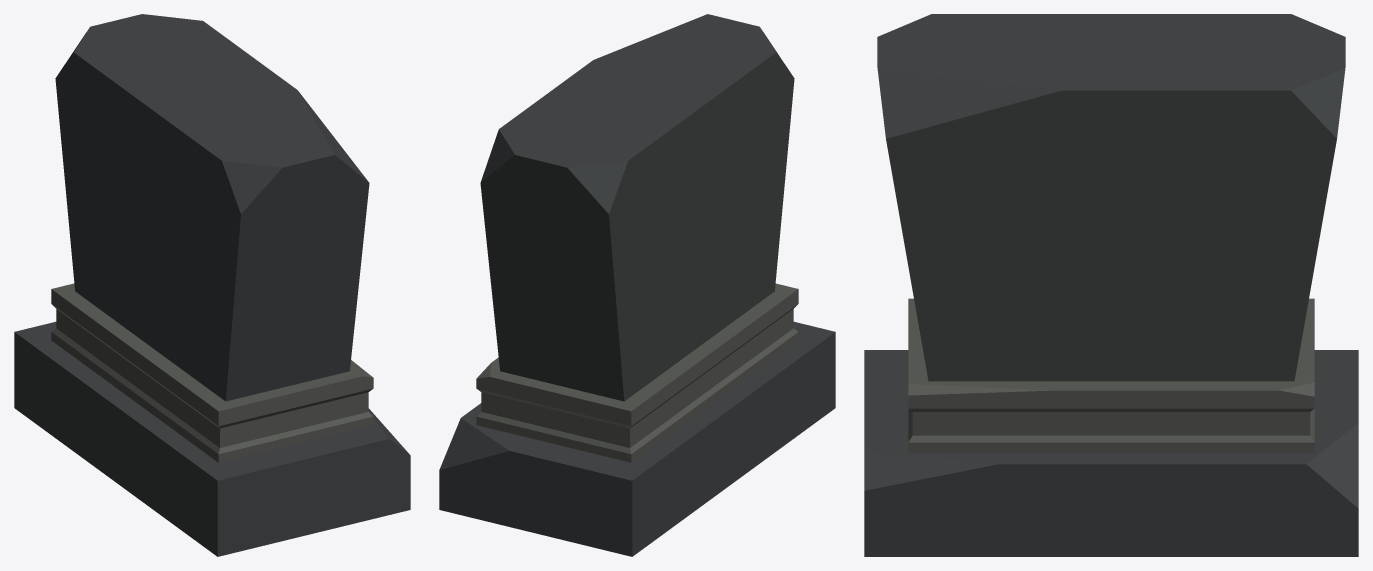
File: gravestone3.fbx
3 views of the same model, side by side, from view 1: azimuth 30°, elevation 25°; view 2: azimuth 150°, elevation 25°; view 3: azimuth 270°, elevation 25° (orthographic). The views are drawn at different scales.
Parts seen in each view (by area): view 1: gravestone3; view 2: gravestone3; view 3: gravestone3.
Boxes of the visible parts, x1,y1,x2,y2 form: gravestone3: (14, 14, 410, 556); gravestone3: (439, 14, 835, 556); gravestone3: (864, 14, 1358, 556).
Size of the model in its own units: 0.8775 by 1.6 by 1.6.
